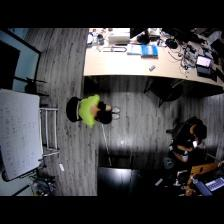normal: (166, 118, 207, 165), (75, 94, 124, 126)
